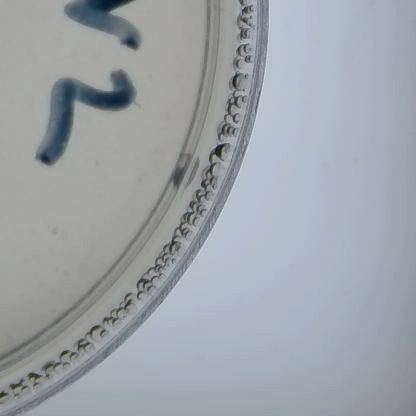worm: (132, 103, 147, 116)
